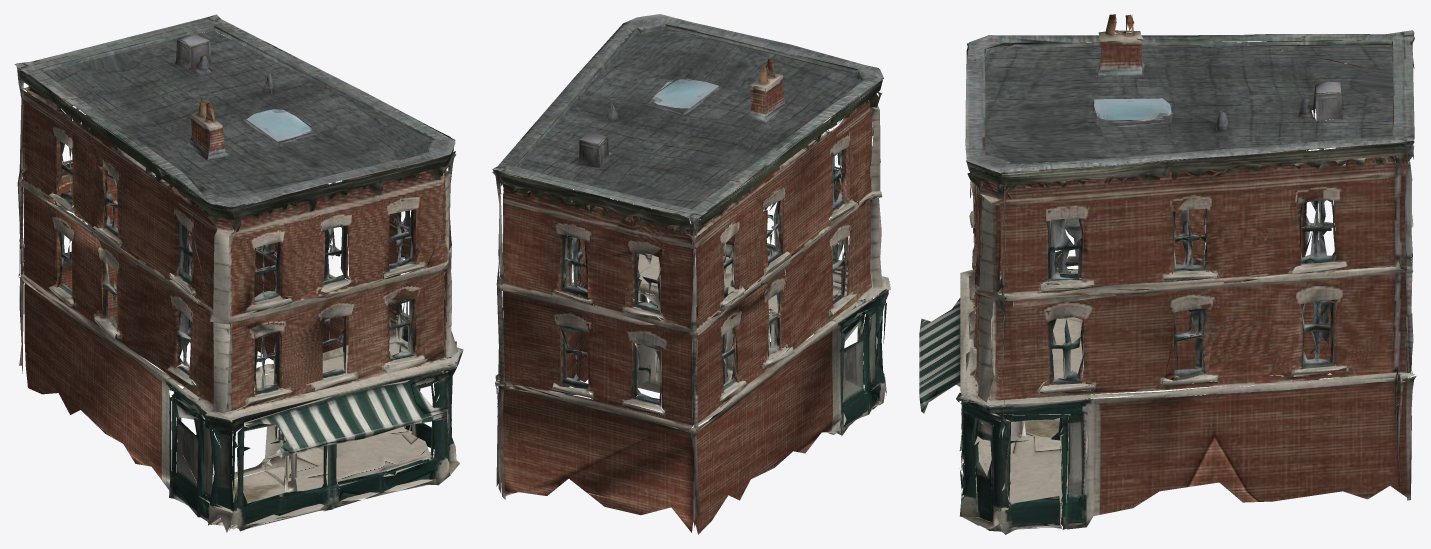
The model's file is stadt_eckladen.glb.
The picture shows the model from 3 angles, left to right: view 1: azimuth 30°, elevation 25°; view 2: azimuth 150°, elevation 25°; view 3: azimuth 270°, elevation 25°; orthographic projection. The views are drawn at different scales.
Parts seen in each view (by area): view 1: Prop; view 2: Prop; view 3: Prop.
Part boxes in pixels (bbox=[...]): Prop: bbox=[14, 14, 463, 532]; Prop: bbox=[492, 14, 890, 534]; Prop: bbox=[919, 14, 1416, 534].
Bounding box in the file's own units: 0.7346 × 1.01 × 1.09.
1 material, 1 textured.
